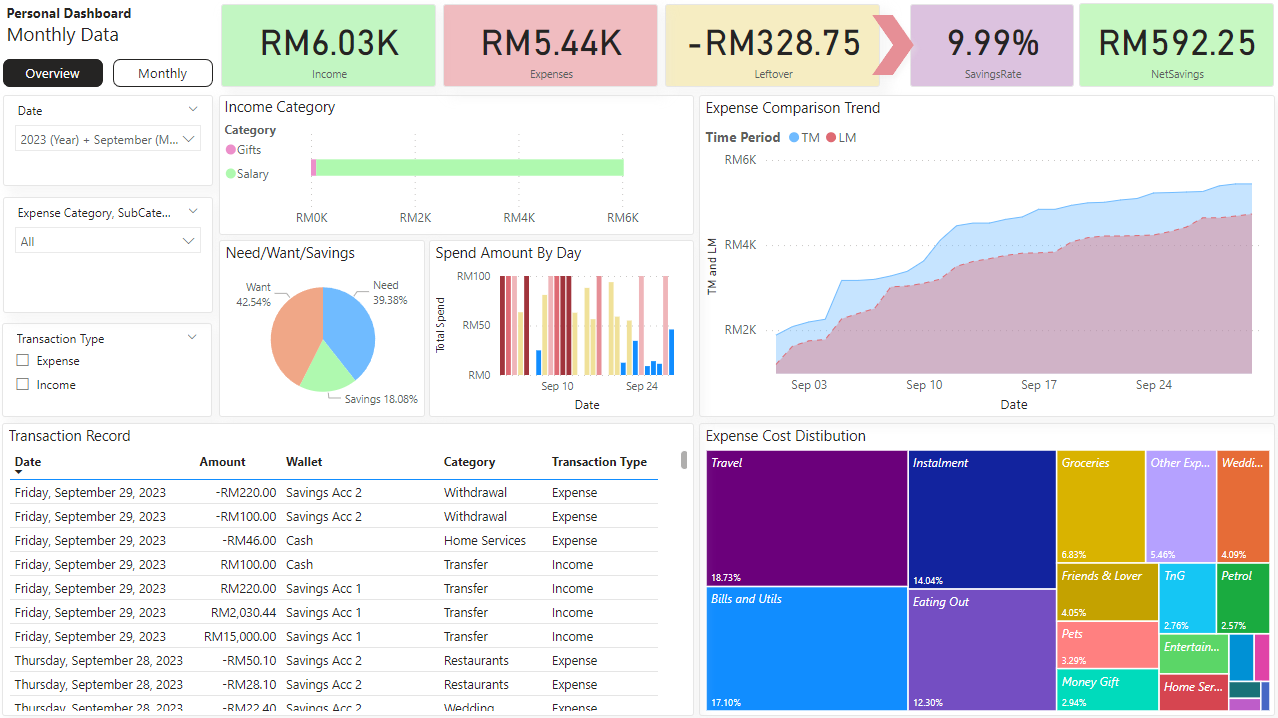

The dashboard page shown, as its layout file describes it:
{"tool":"powerbi","page":{"name":"Monthly Report Spend","canvas":[1280,720],"ordinal":0},"visuals":[{"type":"treemap","title":"Expense Cost Distibution","fields":{"Group":["AllFinanceData.Category1"],"Values":["Sum(AllFinanceData.Amount)"]},"box":[701,424,576,293],"z":0},{"type":"slicer","fields":{"Values":["Date.List Of Dates.Variation.Date Hierarchy.Year","Date.List Of Dates.Variation.Date Hierarchy.Month"]},"box":[4.5,96.4,210,90.9],"z":1000},{"type":"card","fields":{"Values":["Sum(FinanceData.Amount)"]},"box":[667,5,215,83],"z":2000},{"type":"card","fields":{"Values":["Sum(FinanceData.Amount)"]},"box":[223,5,215,83],"z":3000},{"type":"textbox","box":[3.8,0,210,57.5],"z":4000},{"type":"slicer","fields":{"Values":["AllFinanceData.Transaction Type"]},"box":[3.6,323.6,210,94.3],"z":5000},{"type":"slicer","fields":{"Values":["AllFinanceData.Category1","AllFinanceData.Category"]},"box":[5,198,210,116],"z":6000},{"type":"barChart","title":"Income Category","fields":{"Y":["Sum(AllFinanceData.Amount)"],"Series":["AllFinanceData.Category"]},"box":[220.9,96.4,475.5,140],"z":7000},{"type":"pieChart","title":"Need/Want/Savings","fields":{"Category":["AllFinanceData.Need Want Savings"],"Y":["AllFinanceData.AmountPositive"]},"box":[221,241,206,177],"z":8000},{"type":"card","fields":{"Values":["AllFinanceData.T_Savings"]},"box":[1081,4,195,84],"z":9000},{"type":"areaChart","title":"Expense Comparison Trend","fields":{"Y":["AllFinanceData.TM_Expense","AllFinanceData.LM_Expense"],"Category":["CentralDate.Date"]},"box":[701,96,576,322],"z":20000},{"type":"card","fields":{"Values":["AllFinanceData.Net_Expense"]},"box":[445,5,215,83],"z":21000},{"type":"card","fields":{"Values":["AllFinanceData.SavingsRate"]},"box":[912,5,164,83],"z":25000},{"type":"shape","box":[865,7,60,78],"z":26000},{"type":"columnChart","title":"Spend Amount By Day","fields":{"Category":["CentralDate.Date"],"Y":["AllFinanceData.AmountPositive"]},"box":[431.2,241.2,265,176.2],"z":27000},{"type":"tableEx","title":"Transaction Record","fields":{"Values":["CentralDate.Date","Sum(FinanceData.Amount)","FinanceData.Wallet","FinanceData.Category","AllFinanceData.Transaction Type"]},"box":[3.6,423.6,692.7,293.6],"z":28000},{"type":"bookmarkNavigator","box":[5,60,210,28],"z":30000}]}

Visuals, with their boxes in screenshot pixels (x1, y1, x2, y2), scaled from the page's 1280x720 canvas onto the 1278x718 screenshot:
"Expense Cost Distibution" treemap: bbox=[700, 423, 1275, 715]
slicer - Date.List Of Dates.Variation.Date Hierarchy.Year x Date.List Of Dates.Variation.Date Hierarchy.Month: bbox=[4, 96, 214, 187]
card - Sum(FinanceData.Amount): bbox=[666, 5, 881, 88]
card - Sum(FinanceData.Amount): bbox=[223, 5, 437, 88]
textbox: bbox=[4, 0, 213, 57]
slicer - AllFinanceData.Transaction Type: bbox=[4, 323, 213, 417]
slicer - AllFinanceData.Category1 x AllFinanceData.Category: bbox=[5, 197, 215, 313]
"Income Category" barChart: bbox=[221, 96, 695, 236]
"Need/Want/Savings" pieChart: bbox=[221, 240, 426, 417]
card - AllFinanceData.T_Savings: bbox=[1079, 4, 1274, 88]
"Expense Comparison Trend" areaChart: bbox=[700, 96, 1275, 417]
card - AllFinanceData.Net_Expense: bbox=[444, 5, 659, 88]
card - AllFinanceData.SavingsRate: bbox=[911, 5, 1074, 88]
shape: bbox=[864, 7, 924, 85]
"Spend Amount By Day" columnChart: bbox=[431, 241, 695, 416]
"Transaction Record" tableEx: bbox=[4, 422, 695, 715]
bookmarkNavigator: bbox=[5, 60, 215, 88]
